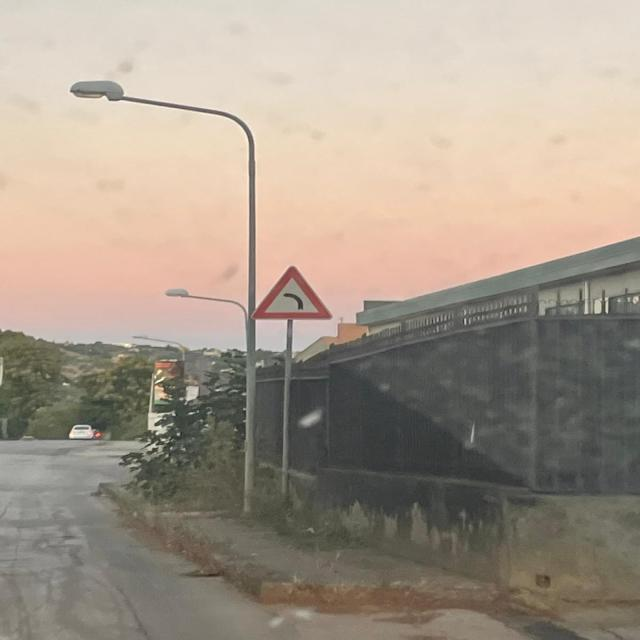warn_left_curve: (250, 265, 333, 320)
